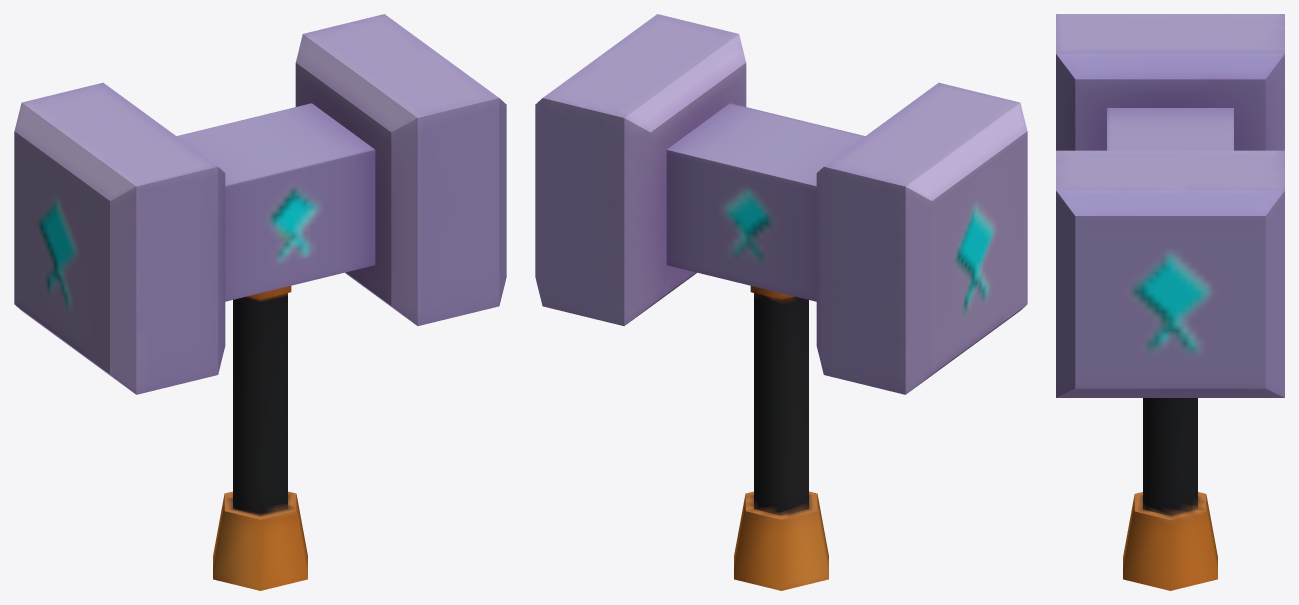
File: Thunder_hammer.fbx
3 renders of one model, left to right at view 1: azimuth 30°, elevation 25°; view 2: azimuth 150°, elevation 25°; view 3: azimuth 270°, elevation 25°, orthographic.
Visible parts, largest first — view 1: Thunder_hammer; view 2: Thunder_hammer; view 3: Thunder_hammer.
Boxes of the visible parts, x1,y1,x2,y2 form: Thunder_hammer: [14, 14, 506, 590]; Thunder_hammer: [535, 14, 1027, 590]; Thunder_hammer: [1056, 14, 1284, 590].
Size of the model in its own units: 3.59 by 4.05 by 1.8.
1 material, 1 textured.
